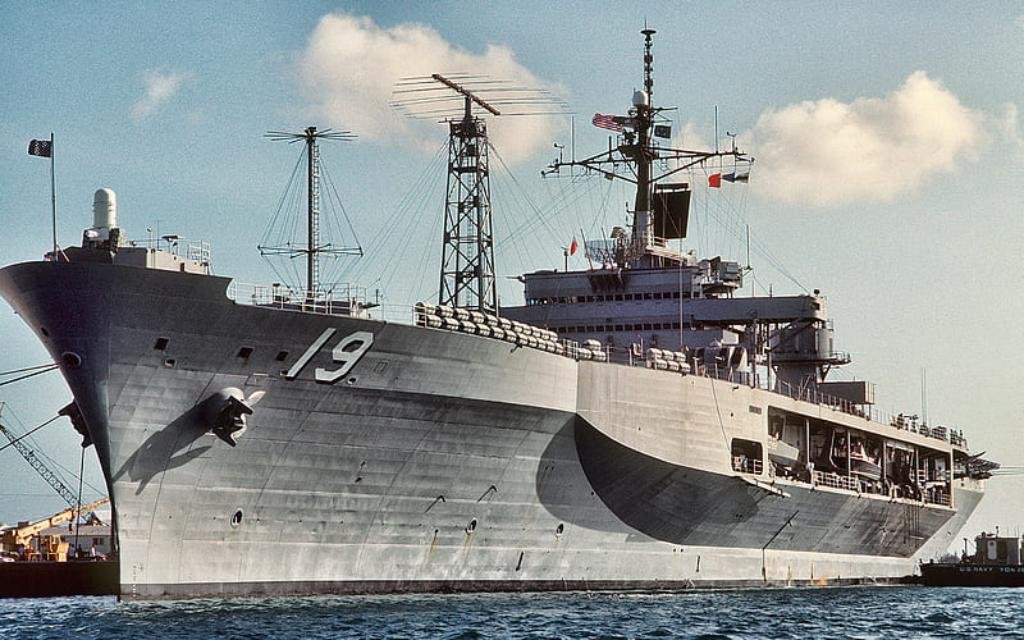Warship: (2, 19, 992, 603)
